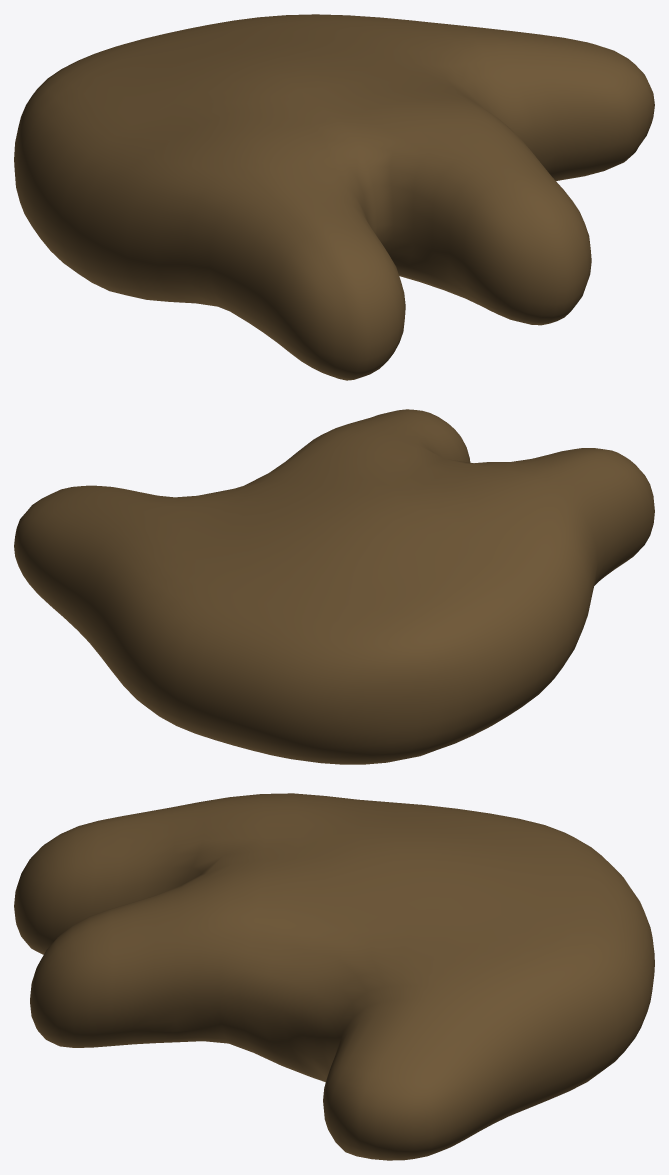
The model's file is right-hand.fbx.
3 renders of one model, top to bottom at view 1: azimuth 30°, elevation 25°; view 2: azimuth 150°, elevation 25°; view 3: azimuth 270°, elevation 25°, orthographic. The views are drawn at different scales.
Visible parts, largest first — view 1: Right Hand; view 2: Right Hand; view 3: Right Hand.
Boxes of the visible parts, box(x1,y1,x2,y2) form: Right Hand: box(14, 14, 654, 380); Right Hand: box(14, 409, 654, 764); Right Hand: box(14, 793, 654, 1160).
Size of the model in its own units: 15.99 by 5.25 by 15.84.
